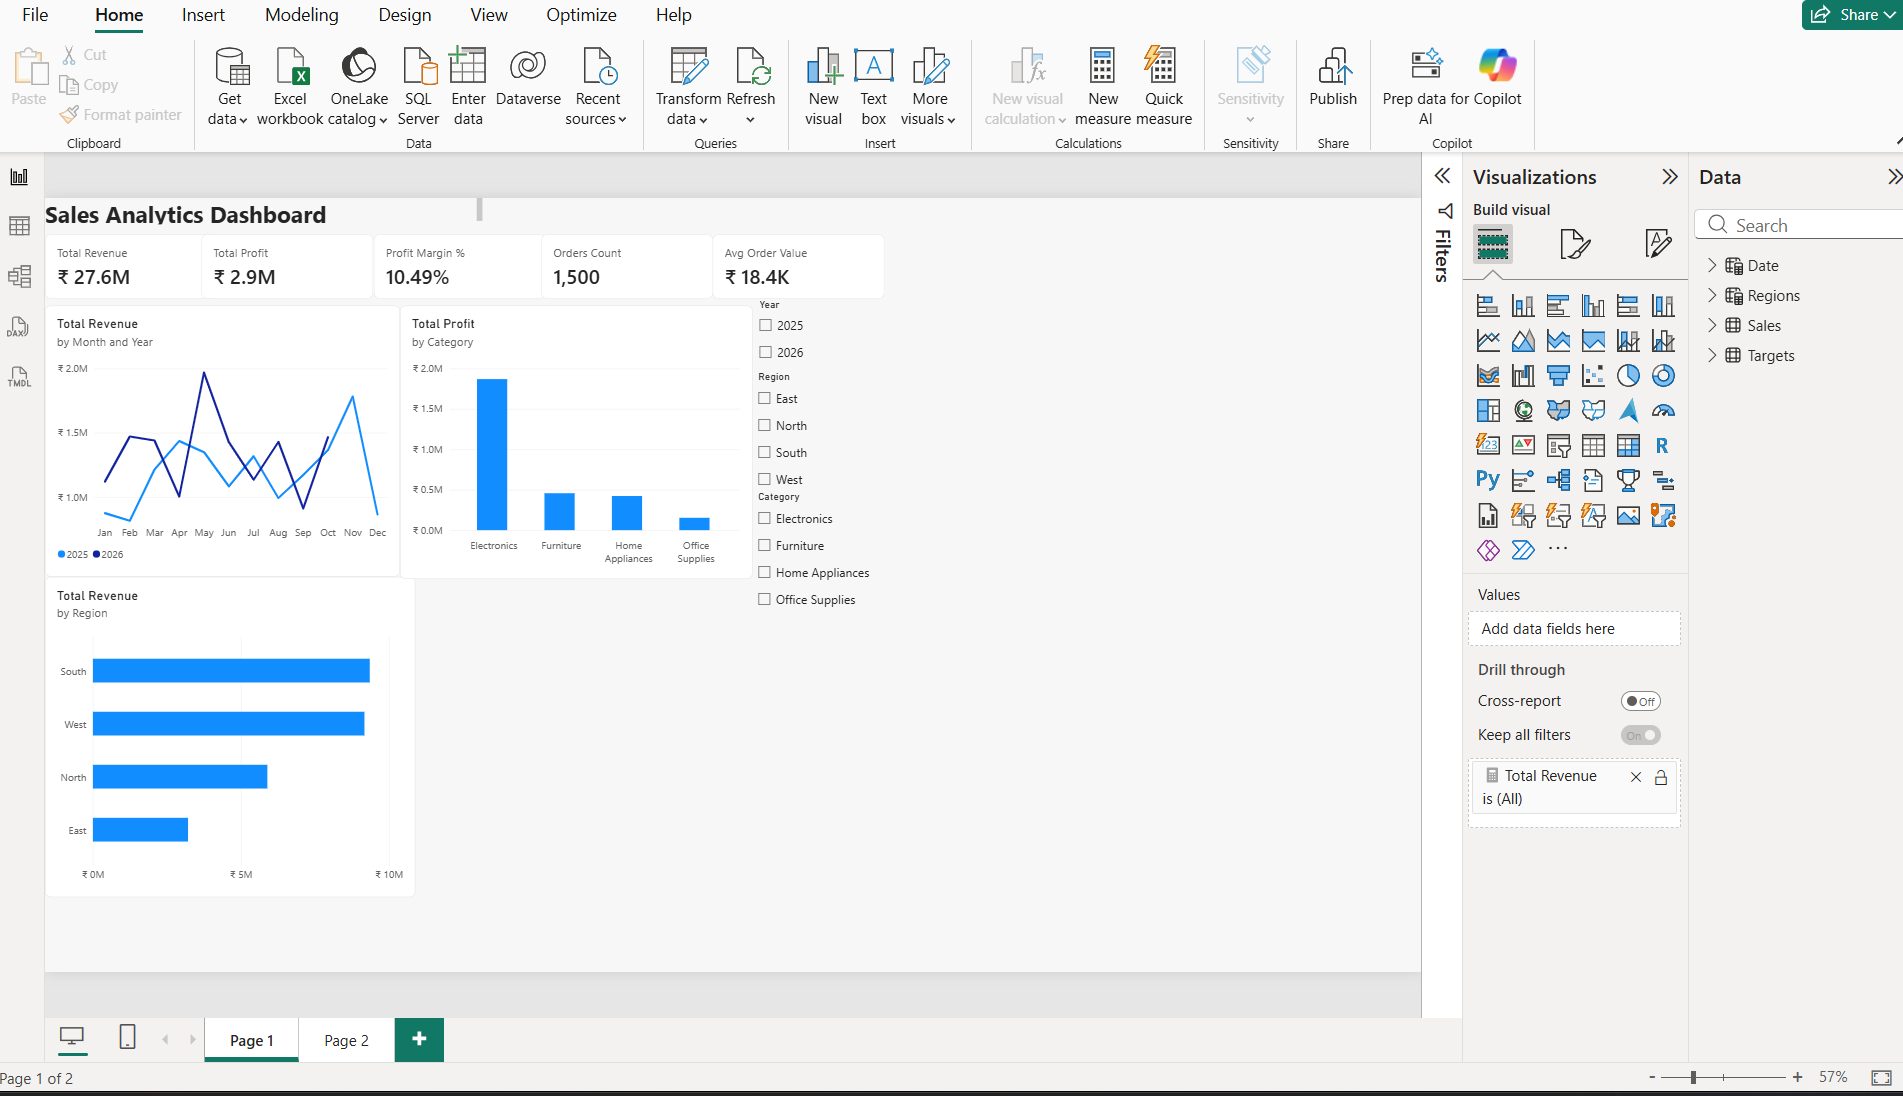

This screenshot's page, from the dashboard's own definition file:
{"tool":"powerbi","page":{"name":"Page 1","canvas":[1920,1080],"ordinal":0},"visuals":[{"type":"cardVisual","fields":{"Data":["Sales.Total Revenue"]},"box":[0,50,240,90],"z":2},{"type":"lineChart","fields":{"Category":["Date.Month"],"Series":["Date.Year"],"Y":["Sales.Total Revenue"]},"box":[0,150,495,378.3],"z":3},{"type":"clusteredBarChart","fields":{"Category":["Regions.Region"],"Y":["Sales.Total Revenue"]},"box":[0,528.6,517.1,447.1],"z":4},{"type":"clusteredColumnChart","fields":{"Category":["Sales.Category"],"Y":["Sales.Total Profit"]},"box":[495,150,491.7,381.7],"z":5},{"type":"slicer","fields":{"Values":["Date.Year"]},"box":[988.3,140,368.3,150],"z":6},{"type":"slicer","fields":{"Values":["Regions.Region"]},"box":[986.7,240,341.7,198.3],"z":7},{"type":"slicer","fields":{"Values":["Sales.Category"]},"box":[986.7,408.3,321.7,175],"z":8},{"type":"cardVisual","fields":{"Data":["Sales.Total Profit"]},"box":[218.3,50,240,90],"z":9},{"type":"cardVisual","fields":{"Data":["Sales.Profit Margin %"]},"box":[458.3,50,240,90],"z":10},{"type":"cardVisual","fields":{"Data":["Sales.Orders Count"]},"box":[691.7,50,240,90],"z":11},{"type":"cardVisual","fields":{"Data":["Sales.Avg Order Value"]},"box":[931.7,50,240,90],"z":12},{"type":"textbox","box":[0,0,610,36.7],"z":13}]}

Visuals, with their boxes on the page's 1920x1080 design canvas (x1, y1, x2, y2). These are canvas units, not pixel positions in the 1903x1096 screenshot, which may show the page scaled, cropped or inside an application window:
cardVisual - Sales.Total Revenue: (x1=0, y1=50, x2=240, y2=140)
lineChart - Date.Month x Date.Year: (x1=0, y1=150, x2=495, y2=528)
clusteredBarChart - Regions.Region x Sales.Total Revenue: (x1=0, y1=529, x2=517, y2=976)
clusteredColumnChart - Sales.Category x Sales.Total Profit: (x1=495, y1=150, x2=987, y2=532)
slicer - Date.Year: (x1=988, y1=140, x2=1357, y2=290)
slicer - Regions.Region: (x1=987, y1=240, x2=1328, y2=438)
slicer - Sales.Category: (x1=987, y1=408, x2=1308, y2=583)
cardVisual - Sales.Total Profit: (x1=218, y1=50, x2=458, y2=140)
cardVisual - Sales.Profit Margin %: (x1=458, y1=50, x2=698, y2=140)
cardVisual - Sales.Orders Count: (x1=692, y1=50, x2=932, y2=140)
cardVisual - Sales.Avg Order Value: (x1=932, y1=50, x2=1172, y2=140)
textbox: (x1=0, y1=0, x2=610, y2=37)
